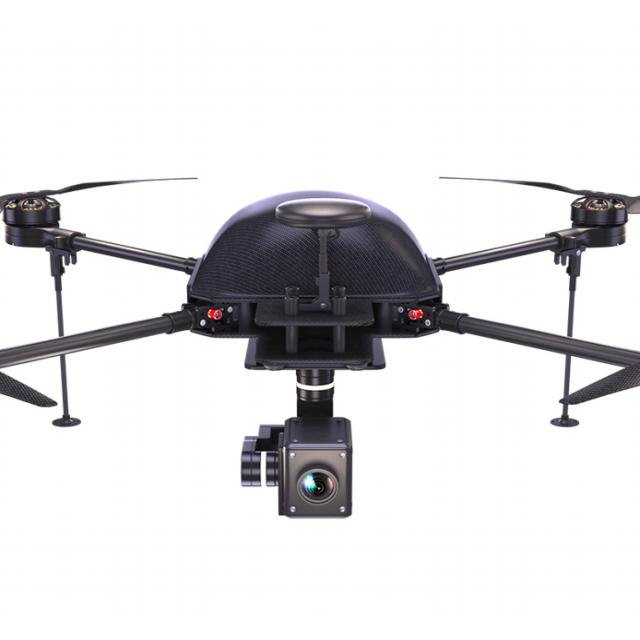drone: (0, 148, 640, 570)
